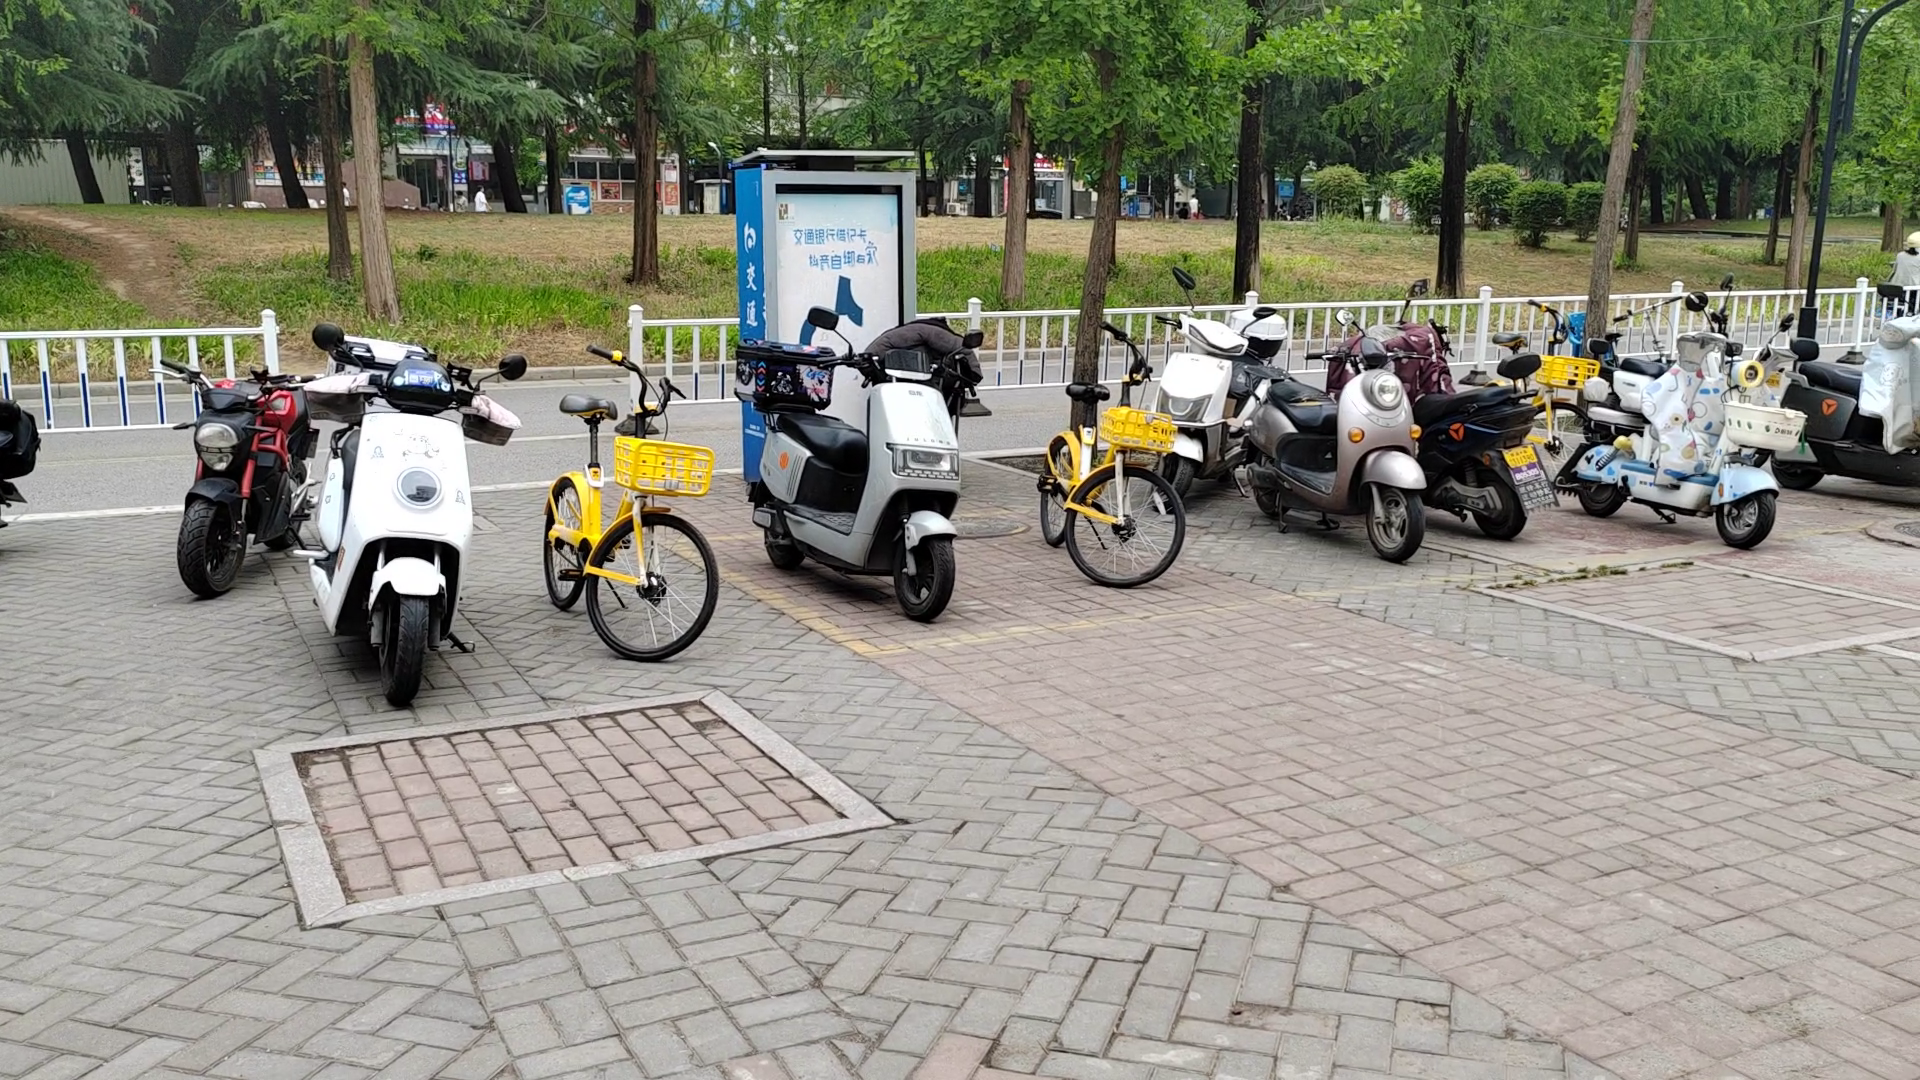others: (754, 305, 978, 653), (309, 336, 498, 717), (1251, 324, 1424, 575), (1592, 344, 1785, 539), (149, 345, 302, 589), (1153, 280, 1279, 491), (1785, 313, 1920, 498)
shared_bike_meituan: (543, 336, 724, 655), (1033, 297, 1176, 626), (1458, 303, 1592, 473)
